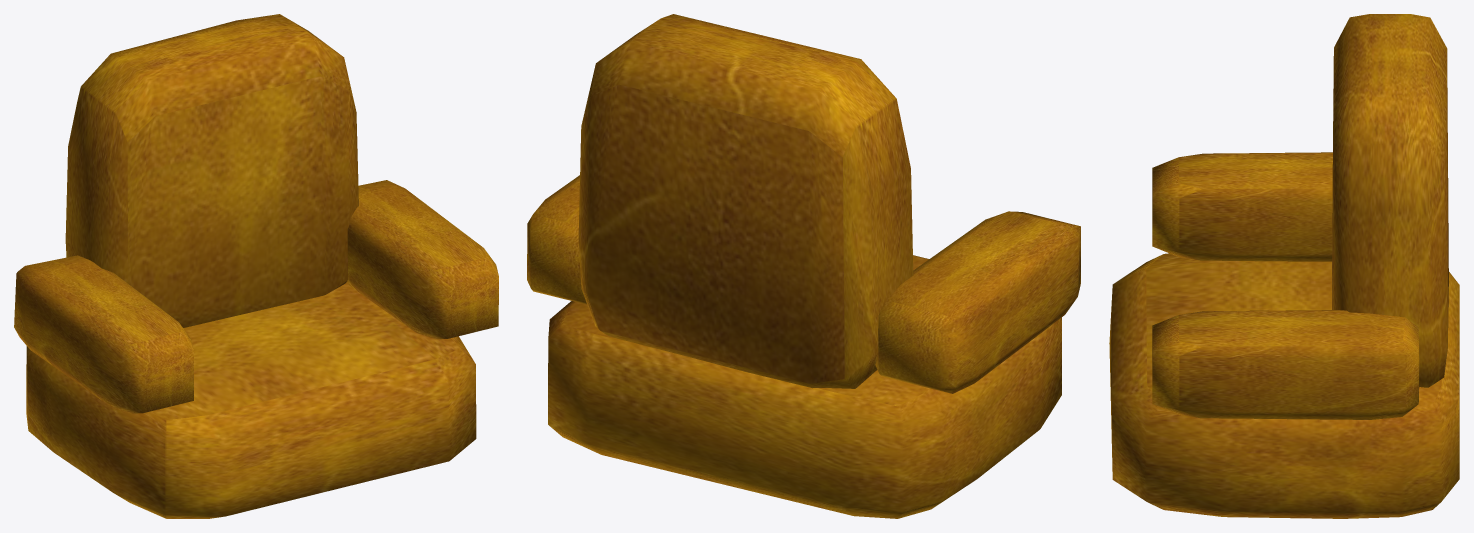
The model's file is sofa_01.glb.
3 views of the same model, side by side, from view 1: azimuth 30°, elevation 25°; view 2: azimuth 150°, elevation 25°; view 3: azimuth 270°, elevation 25° (orthographic). The views are drawn at different scales.
Parts seen in each view (by area): view 1: Sofa_01; view 2: Sofa_01; view 3: Sofa_01.
Boxes of the visible parts, bbox=[...] form: Sofa_01: bbox=[14, 14, 498, 518]; Sofa_01: bbox=[527, 14, 1080, 518]; Sofa_01: bbox=[1109, 14, 1459, 518].
Size of what is drawn, in the model's own units: 2.45 by 2.27 by 1.83.
Materials: 1 (1 with a texture image).
